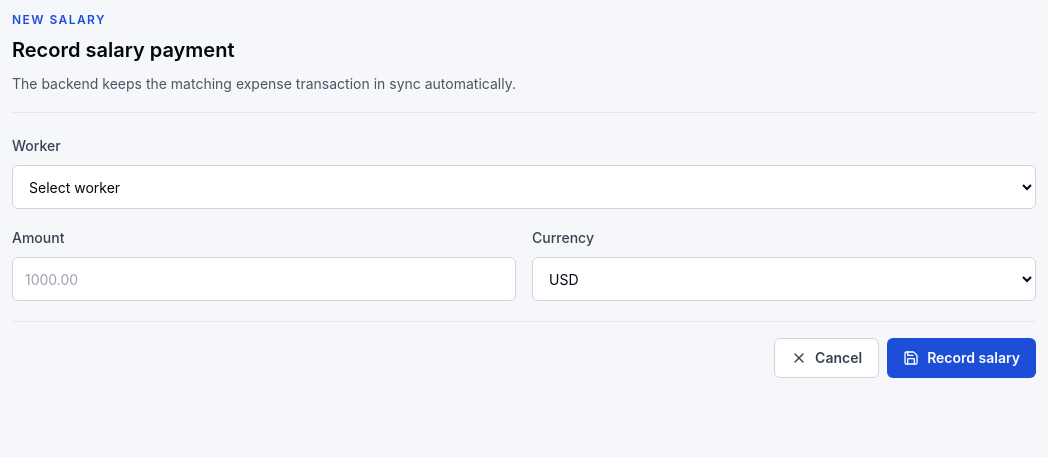
Test: SalaryForm › validates amount according to current behavior
Select "worker_one #4" in the dropdown labelled "Worker" at (524, 187), box [12, 165, 1036, 209]
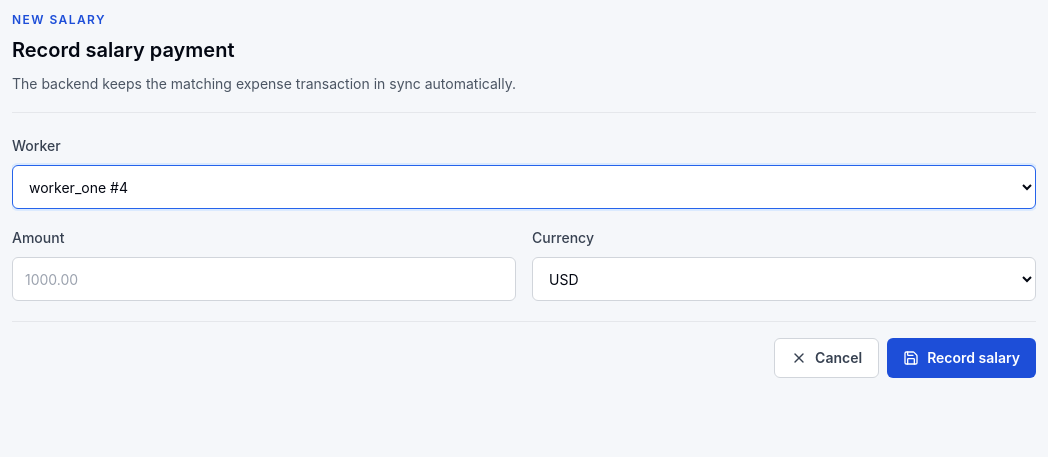
Type "-1" into the field labelled "Amount" at (264, 279), box [12, 257, 516, 301]
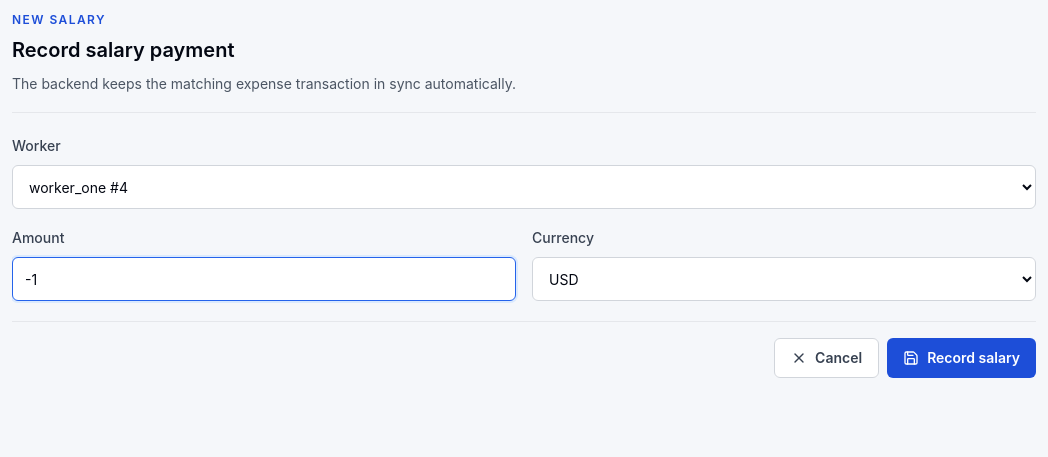
Submit the form "Record salary"
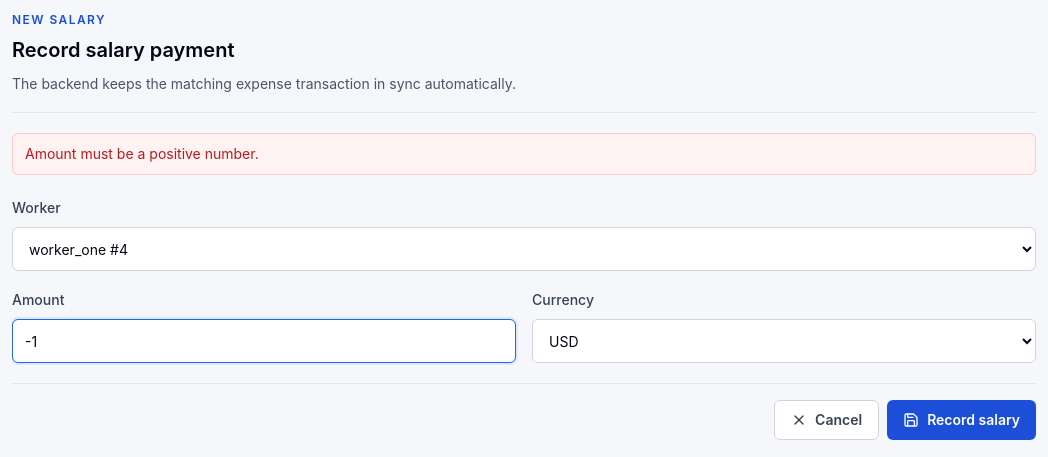
Now the text "Amount must be a positive number." is shown, box [12, 133, 1036, 175]
